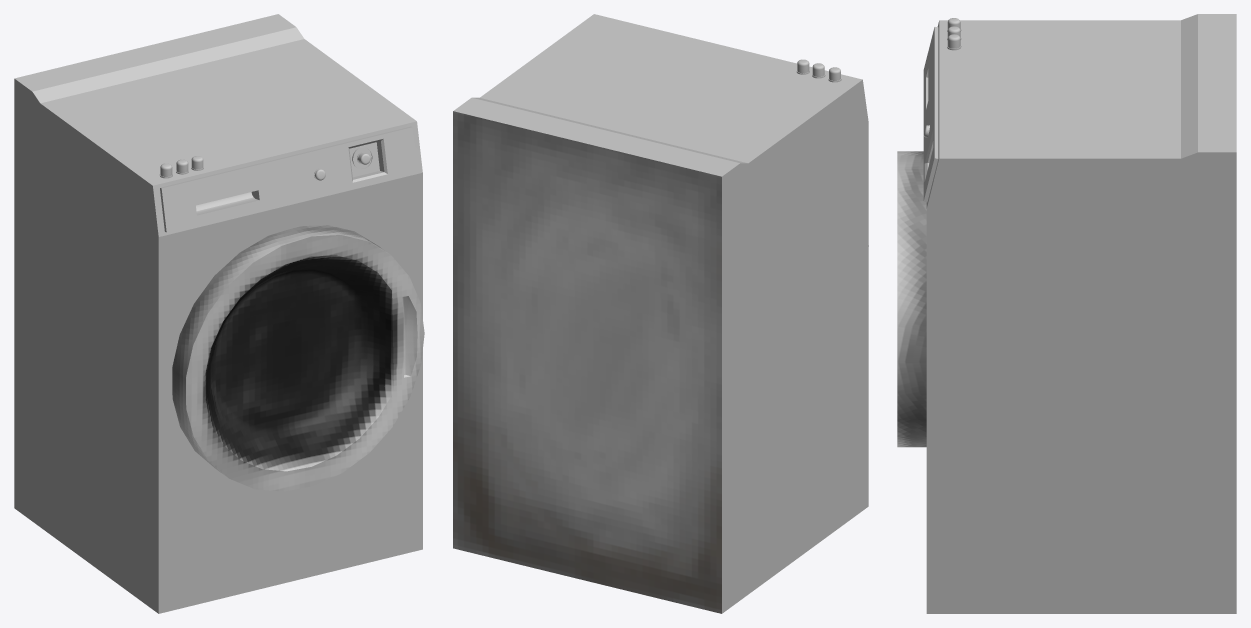
Rendered from (OLD)washingMachine.fbx.
The picture shows the model from 3 angles, left to right: view 1: azimuth 30°, elevation 25°; view 2: azimuth 150°, elevation 25°; view 3: azimuth 270°, elevation 25°; orthographic projection. The views are drawn at different scales.
Visible parts, largest first — view 1: pCylinder7; view 2: pCylinder7; view 3: pCylinder7.
Boxes of the visible parts, x1,y1,x2,y2 form: pCylinder7: [14, 14, 424, 613]; pCylinder7: [453, 14, 868, 613]; pCylinder7: [897, 14, 1236, 613].
Bounding box in the file's own units: 48.98 × 76.96 × 50.76.
